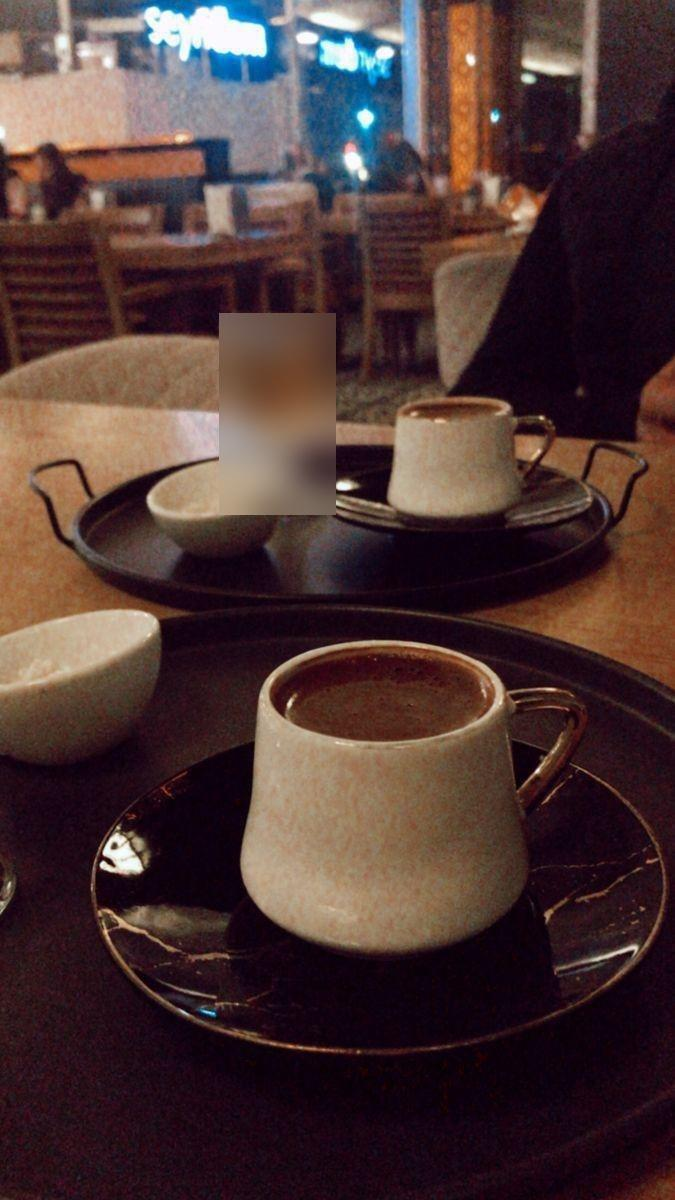cup-handle: (236, 637, 587, 960), (386, 395, 558, 525)
